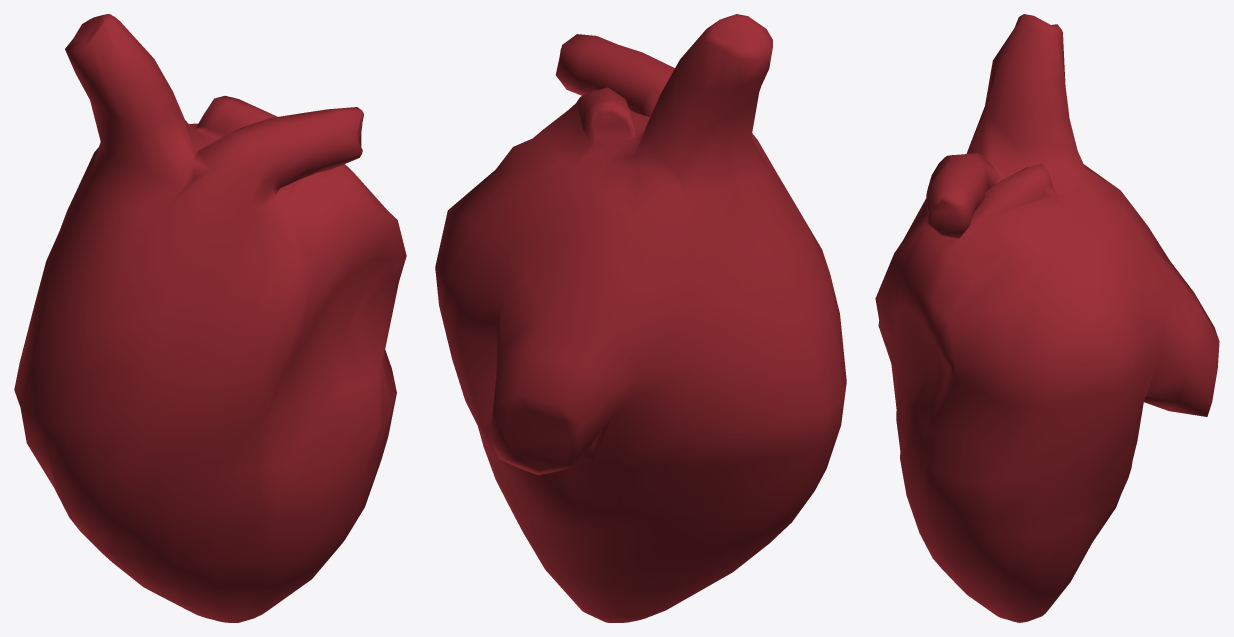
The model's file is heart_27_5.fbx.
3 views of the same model, side by side, from view 1: azimuth 30°, elevation 25°; view 2: azimuth 150°, elevation 25°; view 3: azimuth 270°, elevation 25° (orthographic). The views are drawn at different scales.
Parts seen in each view (by area): view 1: Heart_remesh; view 2: Heart_remesh; view 3: Heart_remesh.
Boxes of the visible parts, x1,y1,x2,y2 form: Heart_remesh: (14,14,406,622); Heart_remesh: (435,14,846,622); Heart_remesh: (875,14,1219,622).
Bounding box in the file's own units: 9.84 × 16.32 × 9.25.
